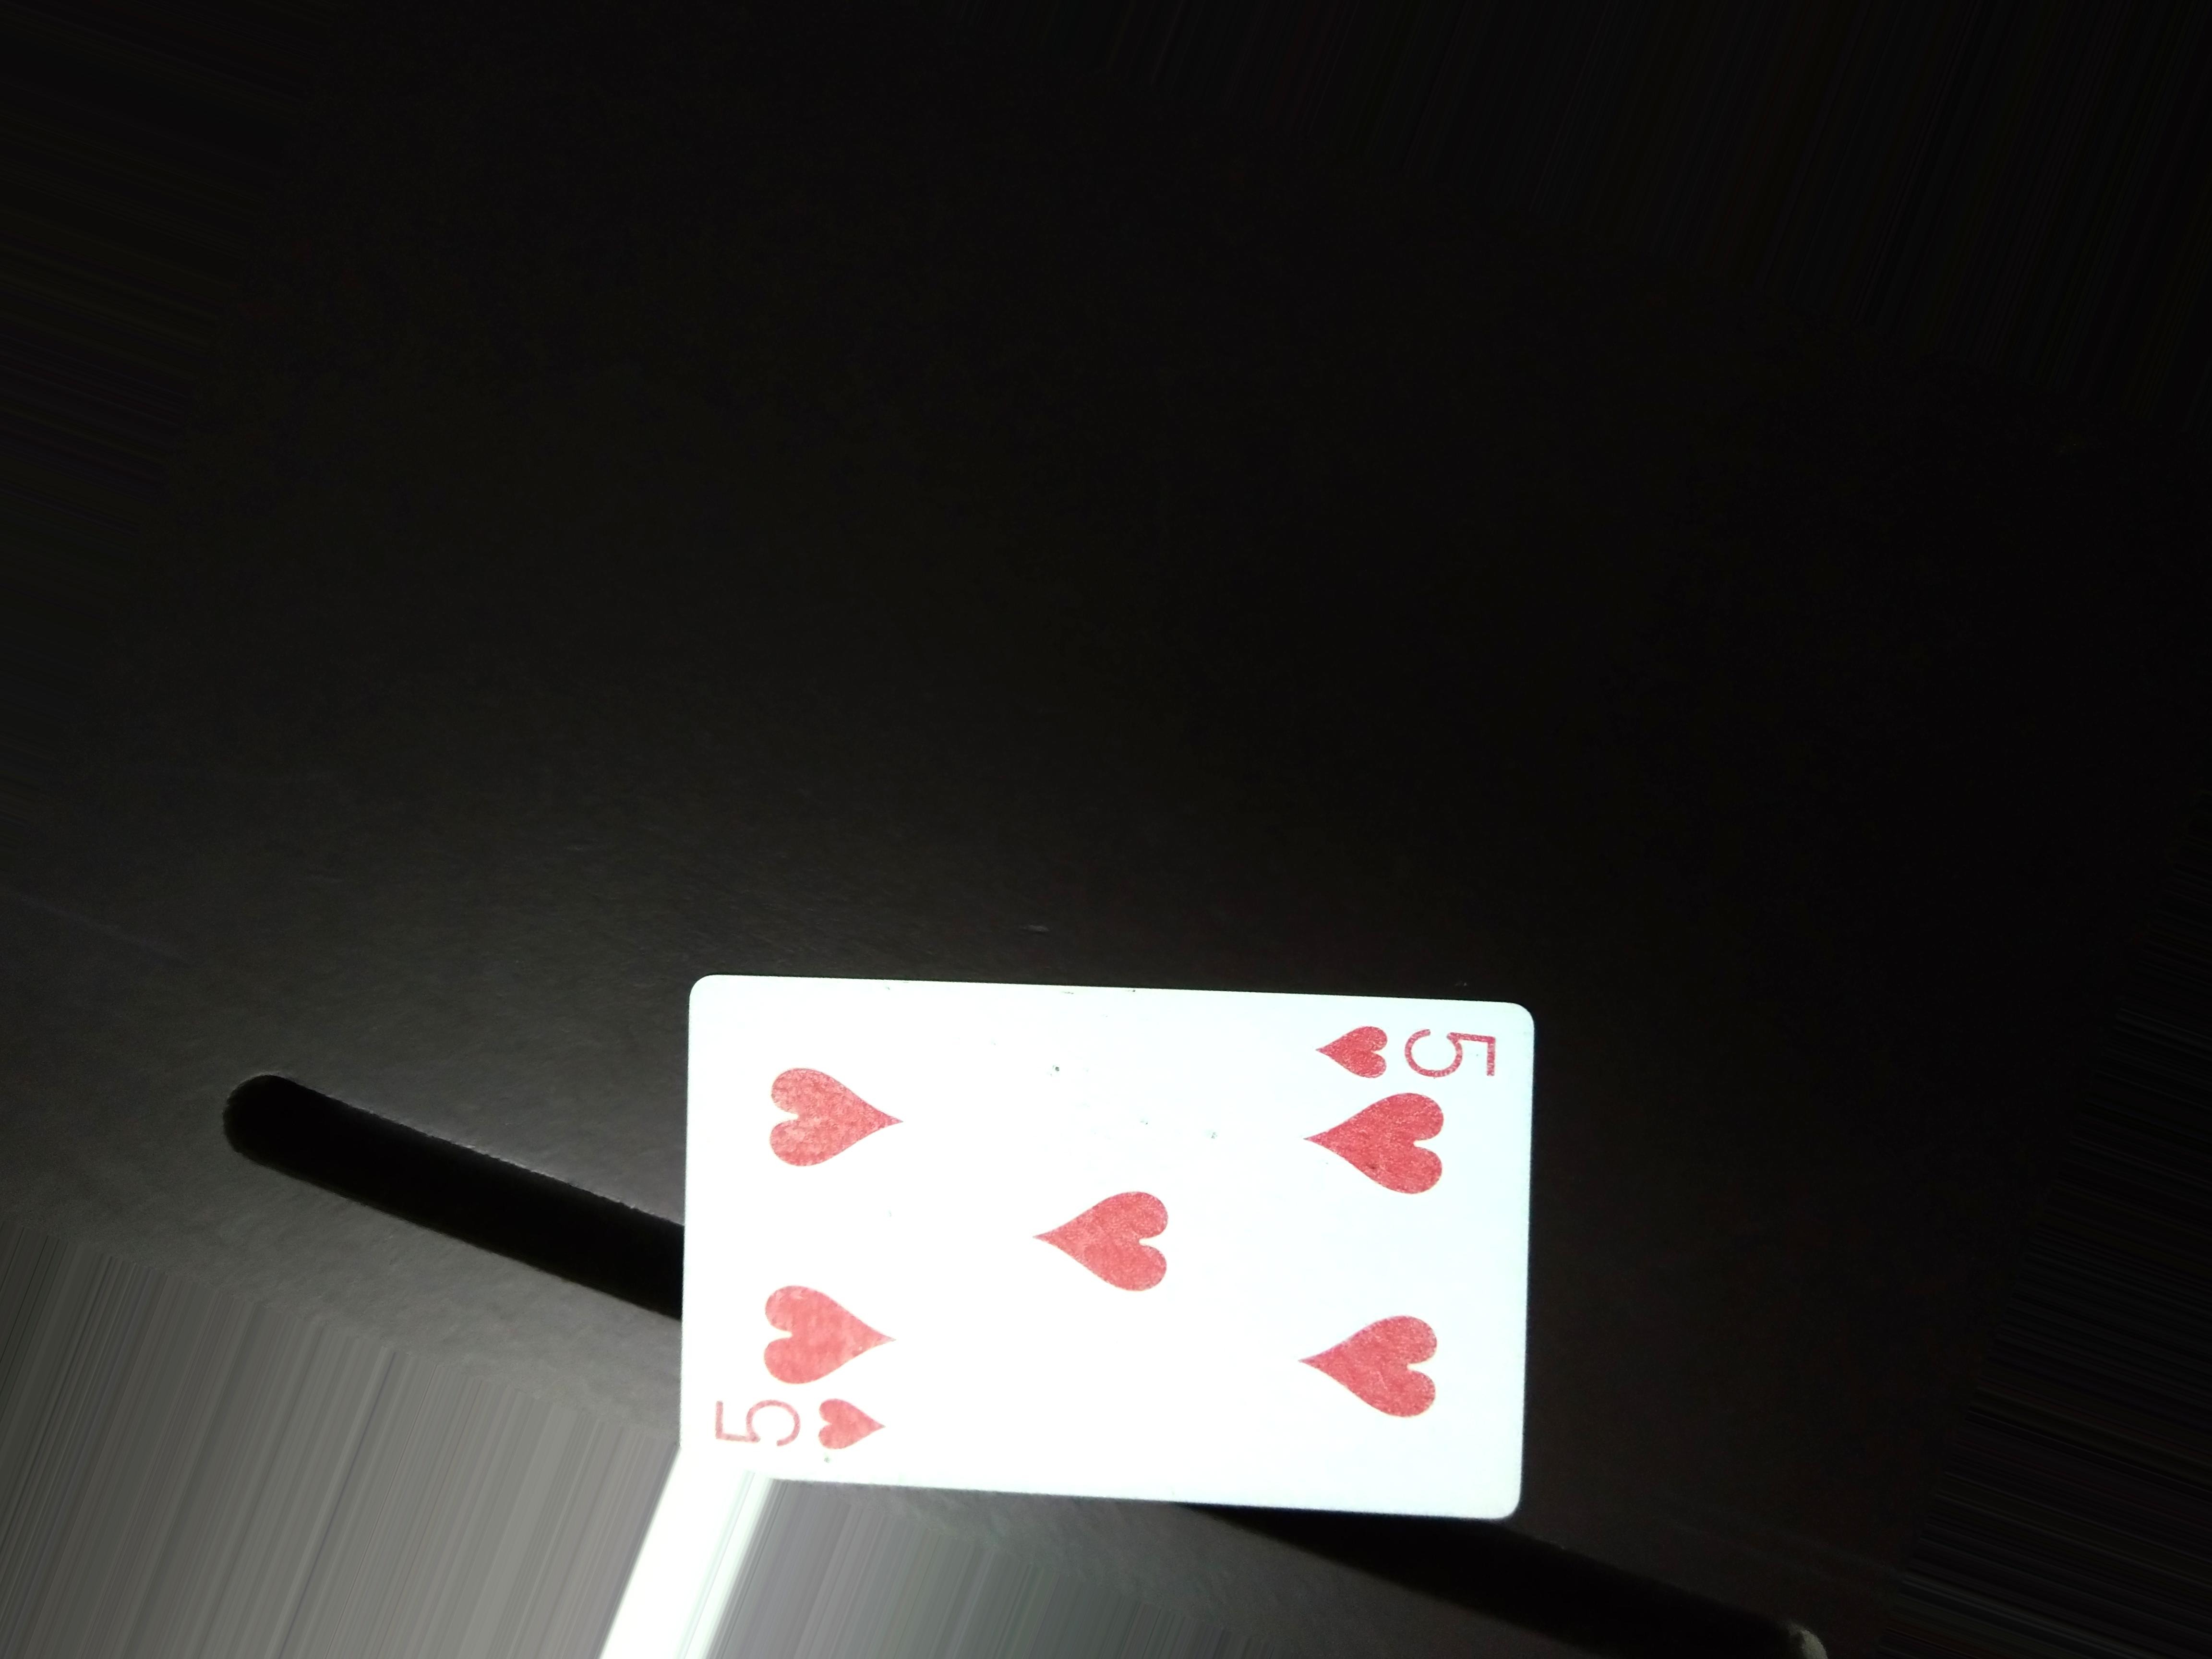5H: (1306, 1012, 1503, 1098)
